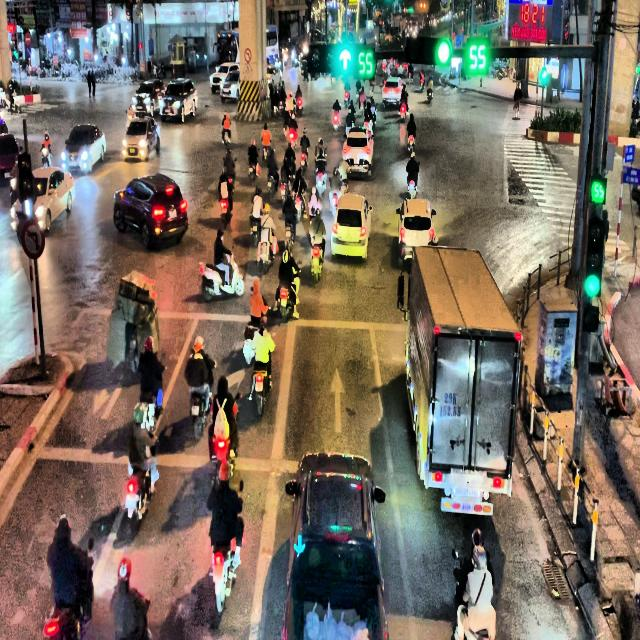lisence_plate: (440, 495, 494, 517), (440, 390, 461, 420), (168, 208, 179, 221), (354, 158, 359, 164)
